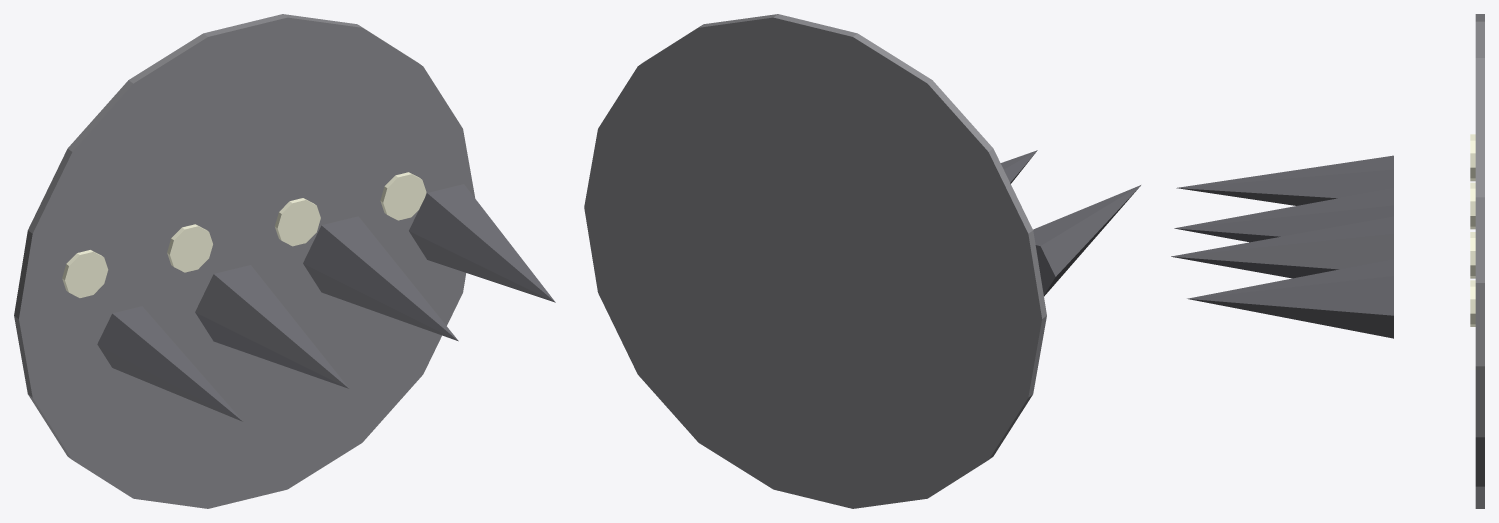
File: 04_event_hazard_cluster.glb
The picture shows the model from 3 angles, left to right: view 1: azimuth 30°, elevation 25°; view 2: azimuth 150°, elevation 25°; view 3: azimuth 270°, elevation 25°; orthographic projection. The views are drawn at different scales.
Parts seen in each view (by area): view 1: scatter_base, basalt_shard_2, basalt_shard_1, basalt_shard_3, basalt_shard_0, lava_glow_2, lava_glow_0, lava_glow_1, lava_glow_3; view 2: scatter_base, basalt_shard_0; view 3: basalt_shard_3, basalt_shard_2, basalt_shard_0, basalt_shard_1, scatter_base.
Part boxes in pixels (box(x1,y1,x2,y2)): scatter_base: box(14, 14, 474, 508); basalt_shard_2: box(303, 216, 458, 341); basalt_shard_1: box(195, 265, 348, 388); basalt_shard_3: box(409, 184, 555, 302); basalt_shard_0: box(97, 306, 242, 421); lava_glow_2: box(275, 198, 320, 246); lava_glow_0: box(62, 250, 108, 297); lava_glow_1: box(167, 224, 212, 272); lava_glow_3: box(380, 172, 426, 220); scatter_base: box(584, 14, 1046, 508); basalt_shard_0: box(1033, 185, 1140, 296); basalt_shard_3: box(1187, 259, 1393, 338); basalt_shard_2: box(1171, 216, 1393, 278); basalt_shard_0: box(1176, 155, 1393, 205); basalt_shard_1: box(1174, 188, 1393, 242); scatter_base: box(1475, 14, 1484, 508).
Size of the model in its own units: 1.9 by 1.87 by 1.2.
